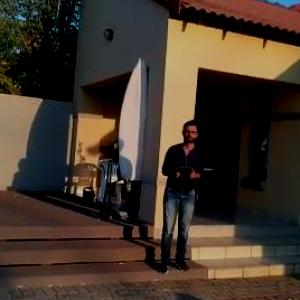follow: (153, 116, 206, 278)
